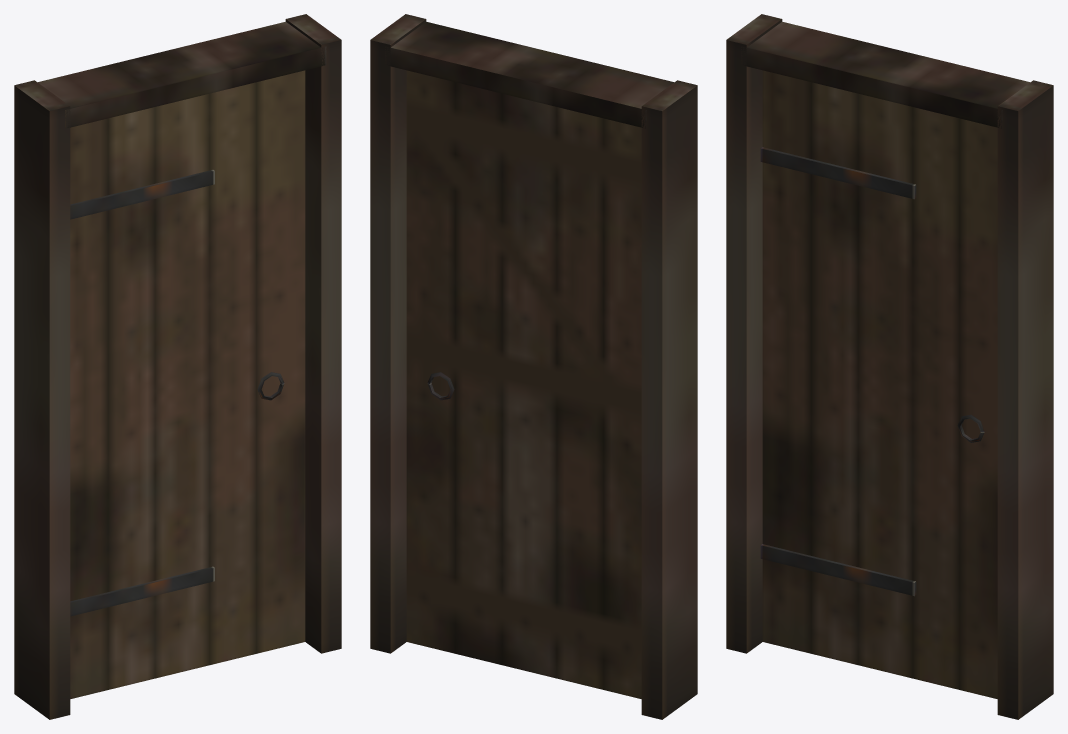
File: door_plank.obj
3 renders of one model, left to right at view 1: azimuth 30°, elevation 25°; view 2: azimuth 150°, elevation 25°; view 3: azimuth 330°, elevation 25°, orthographic.
Visible parts, largest first — view 1: door_plank_leaf, door_plank, door_plank_casing_r, door_plank_casing_top; view 2: door_plank_leaf, door_plank, door_plank_casing_r, door_plank_casing_top; view 3: door_plank_leaf, door_plank_casing_r, door_plank, door_plank_casing_top.
Part boxes in pixels (<box>): door_plank_leaf: <box>70,70,305,698</box>; door_plank: <box>14,80,70,719</box>; door_plank_casing_r: <box>285,14,341,653</box>; door_plank_casing_top: <box>38,21,326,128</box>; door_plank_leaf: <box>406,70,641,698</box>; door_plank: <box>641,80,697,719</box>; door_plank_casing_r: <box>370,14,426,653</box>; door_plank_casing_top: <box>385,21,673,128</box>; door_plank_leaf: <box>760,70,997,698</box>; door_plank_casing_r: <box>997,80,1053,719</box>; door_plank: <box>726,14,782,653</box>; door_plank_casing_top: <box>741,21,1029,128</box>.
Bounding box in the file's own units: 1.14 × 2.27 × 0.24.
1 material, 1 textured.
